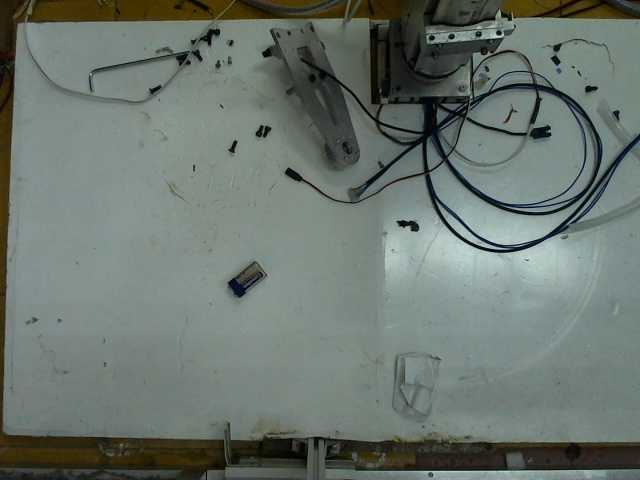battery: (223, 257, 271, 294)
